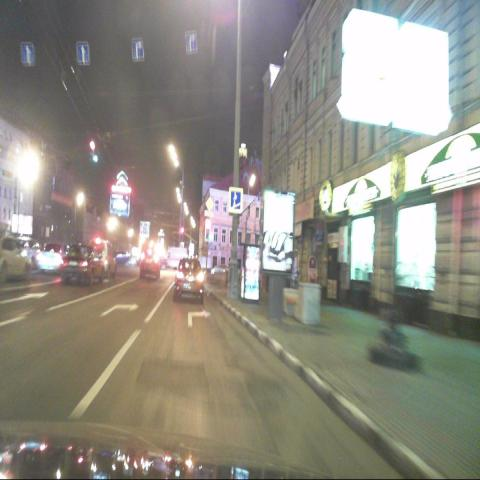5_15_2: (22, 43, 34, 66)
